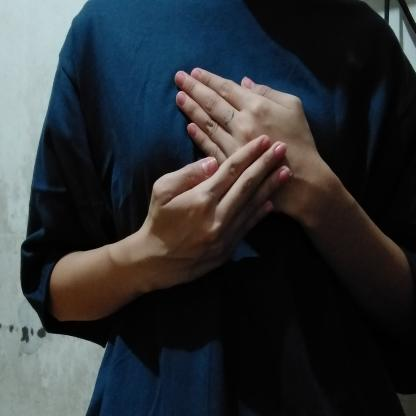thank you: (138, 61, 331, 301)
